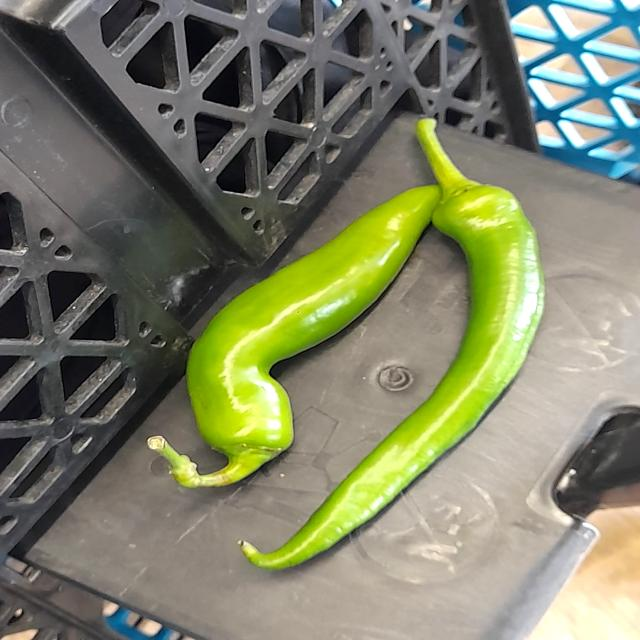green pepper: (245, 113, 556, 578), (145, 164, 452, 498)
